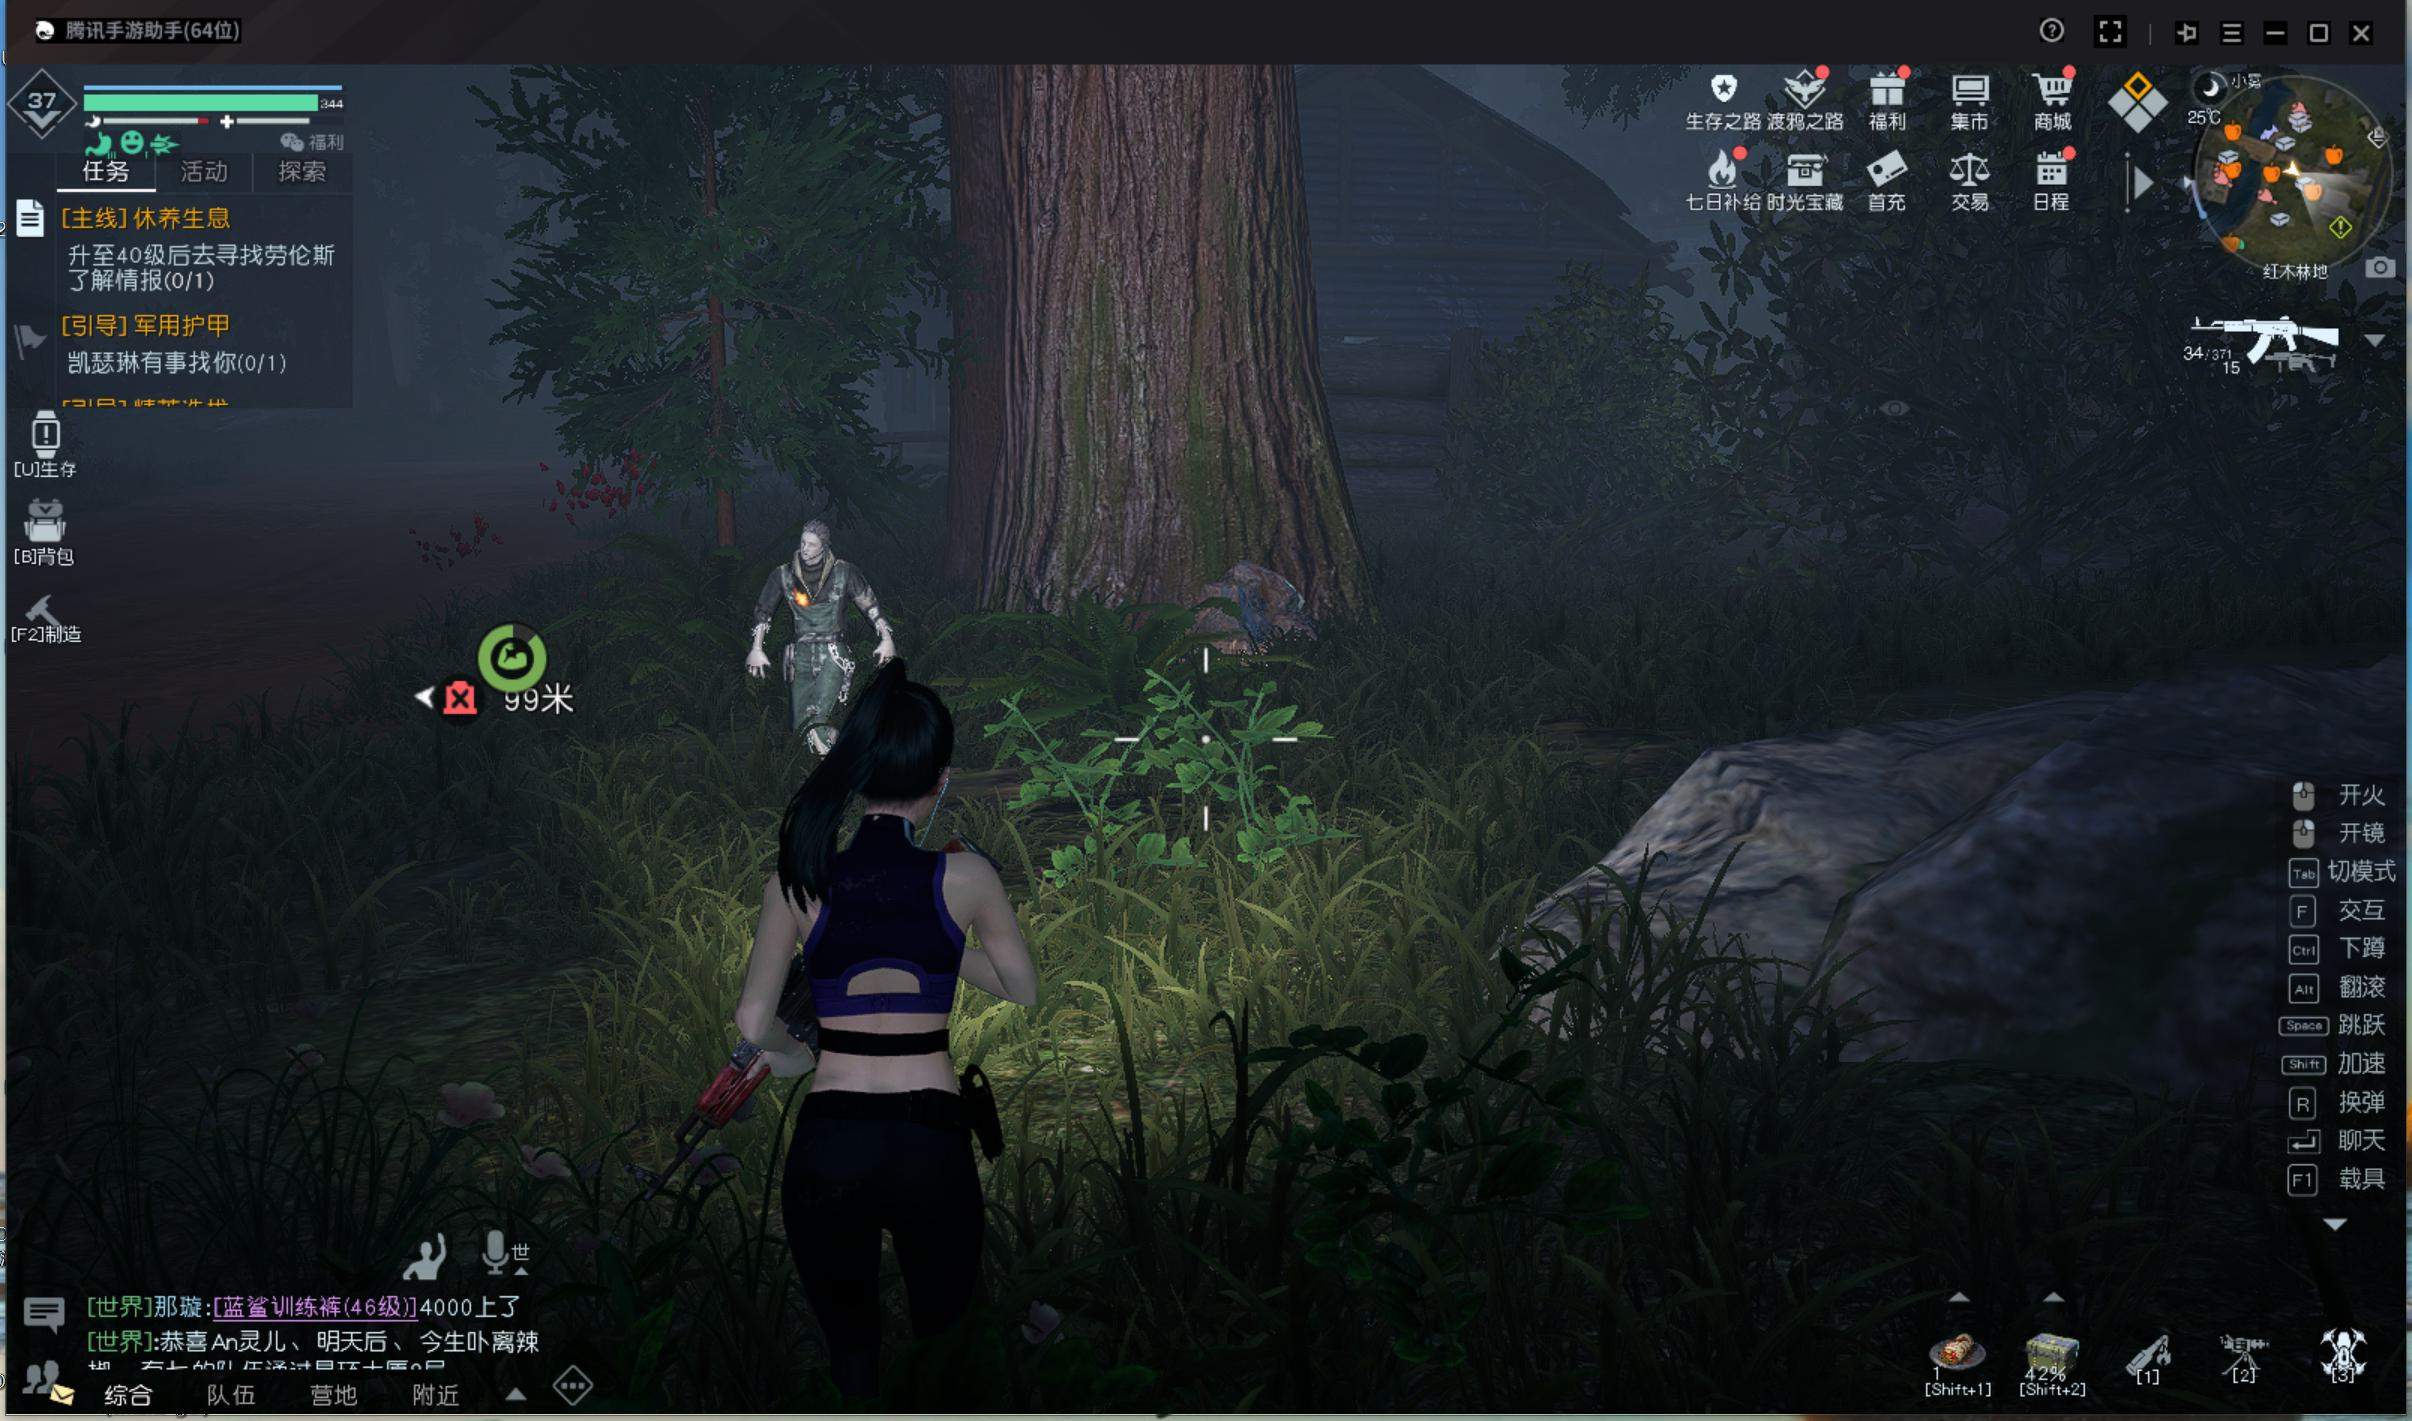stone: (1182, 545, 1314, 667)
tree: (920, 96, 1370, 528)
